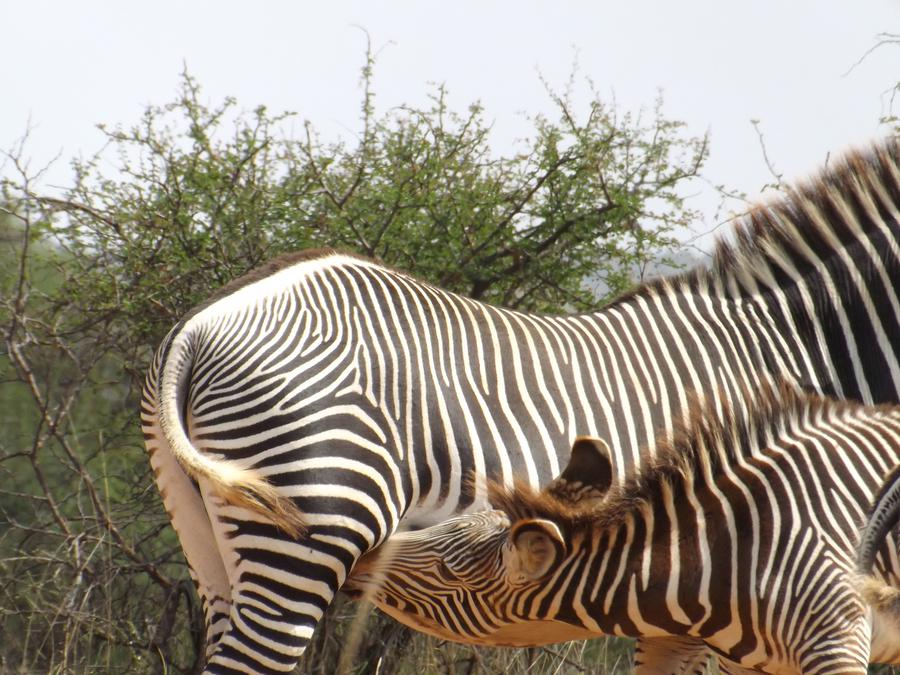zebra_grevys: (156, 237, 715, 457)
